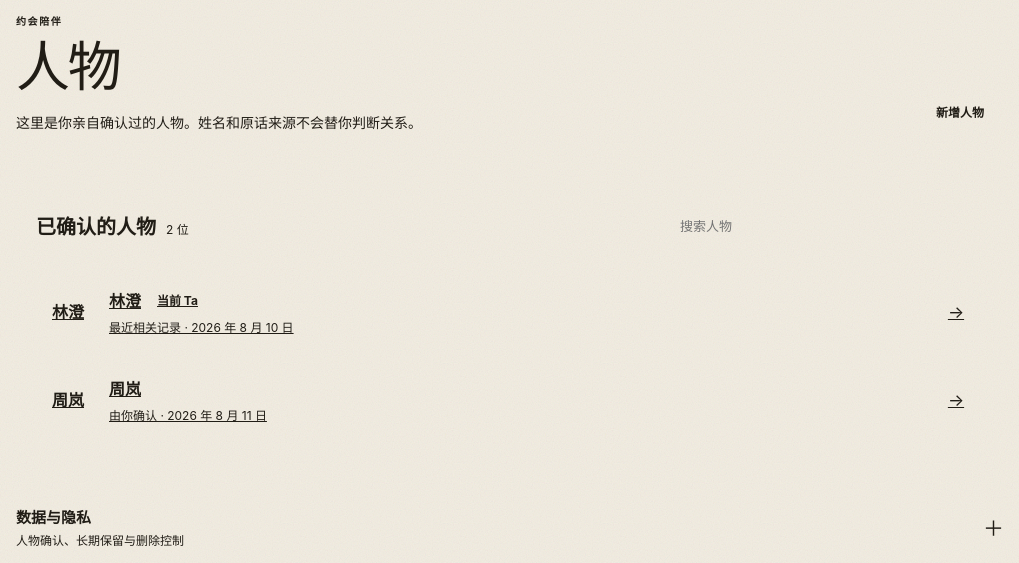
CompanionPeople › searches only confirmed names and gives a quiet no-result state
In the search field labelled "搜索人物": [824, 227] box [664,205,984,249], type "周"
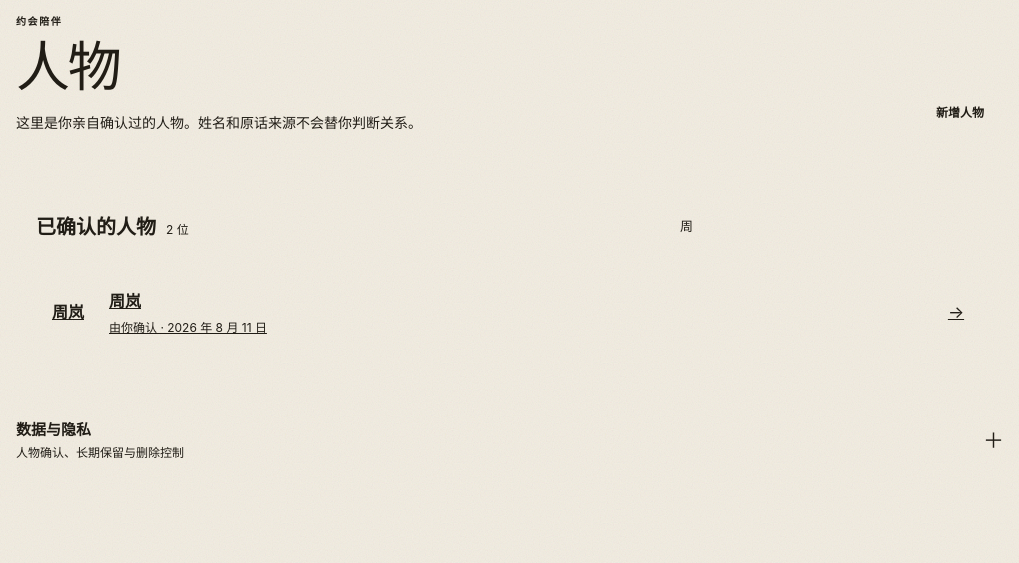
Check: the link "周岚 周岚 由你确认 · 2026 年 8 月 11 日 →" is shown, box [52,291,964,335]
Check: the link "林澄" is gone
Replace the text in the search field named "搜索人物" with "不存在": [824, 227] box [664,205,984,249]
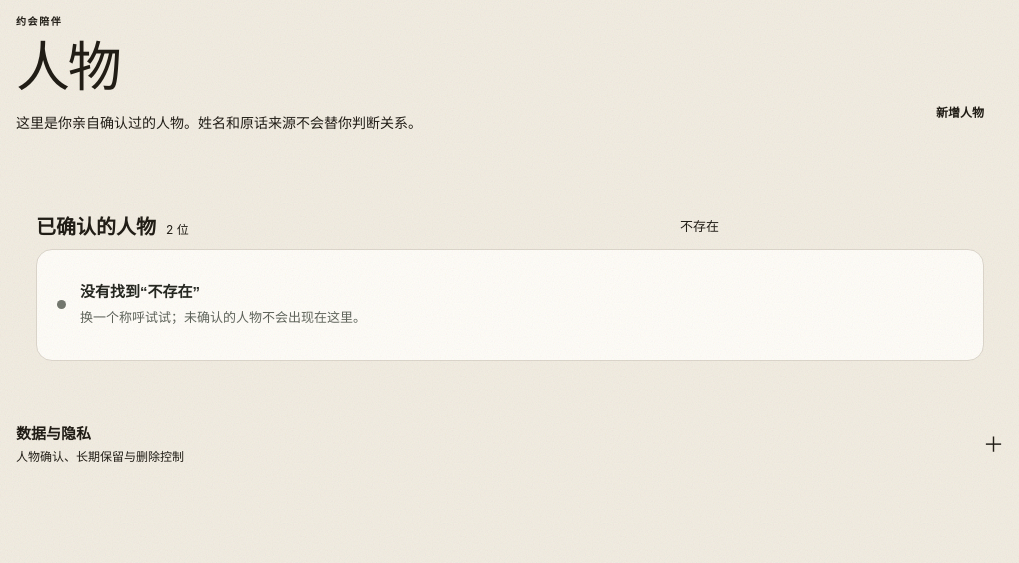
Check: the heading "没有找到“不存在”" is shown, box [80,283,200,300]
Check: the text "换一个称呼试试；未确认的人物不会出现在这里。" is shown, box [80,310,366,325]
